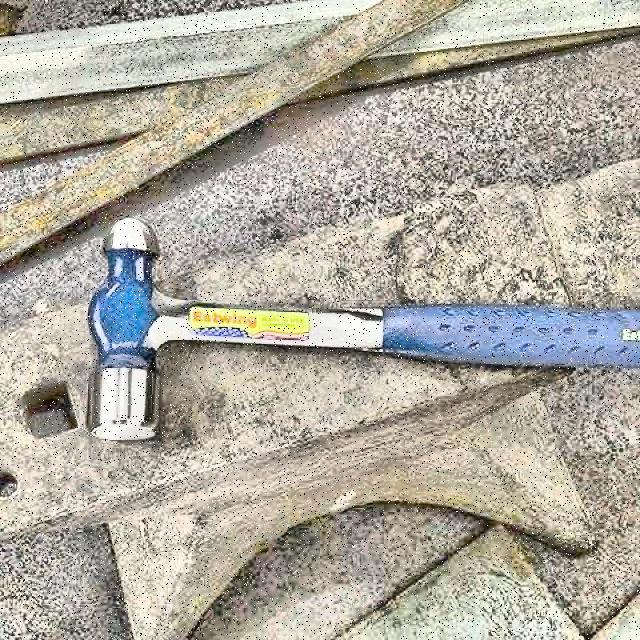hammer: (85, 215, 640, 443)
